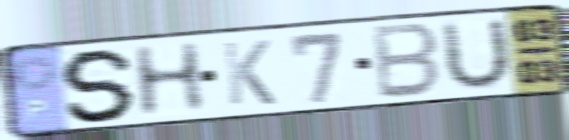7: (287, 28, 348, 106)
B: (372, 20, 443, 102)
H: (128, 39, 210, 121)
K: (219, 37, 279, 108)
S: (58, 46, 140, 125)
U: (440, 14, 514, 95)
